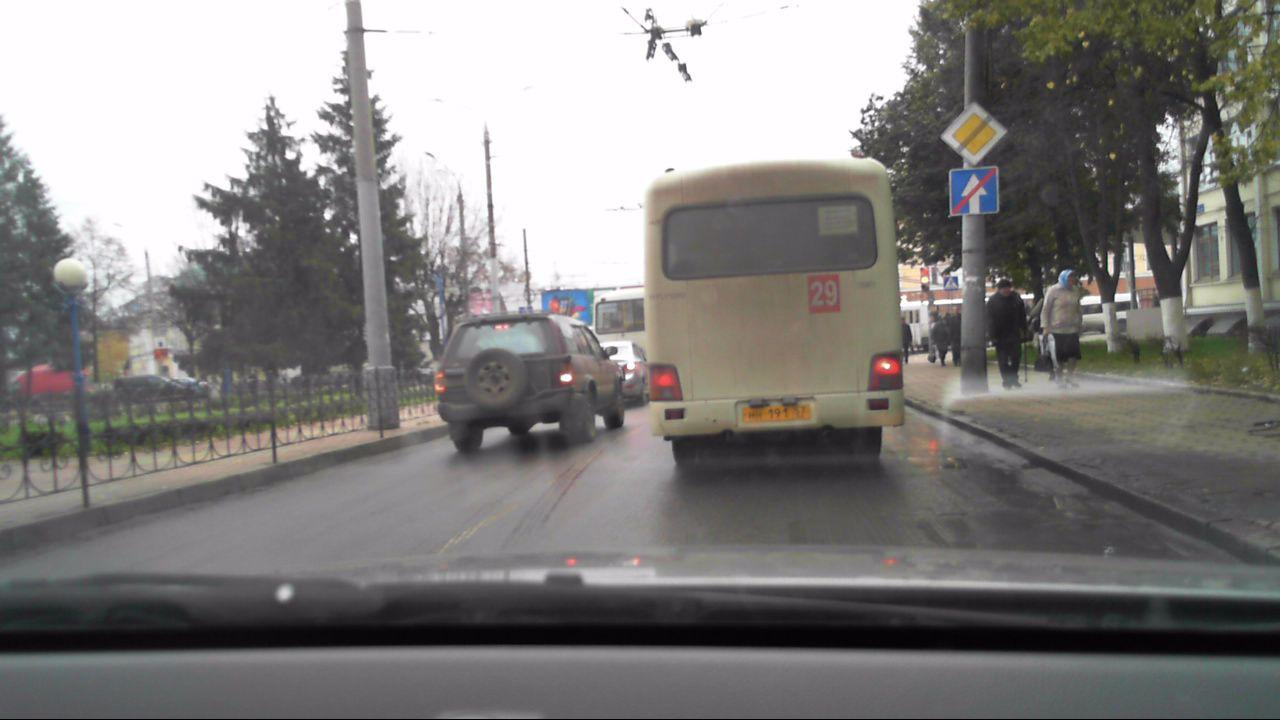2_2: (943, 98, 1006, 164)
5_6: (949, 167, 1000, 214)
